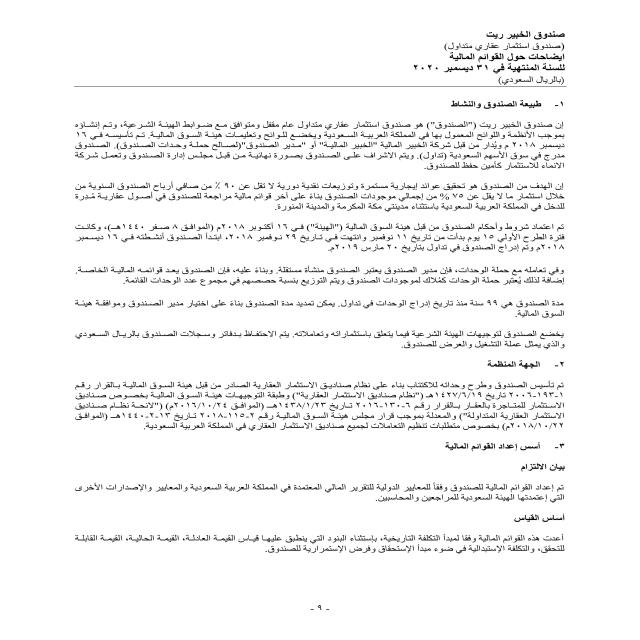notes: (445, 52, 574, 64)
text: (33, 96, 580, 584)
